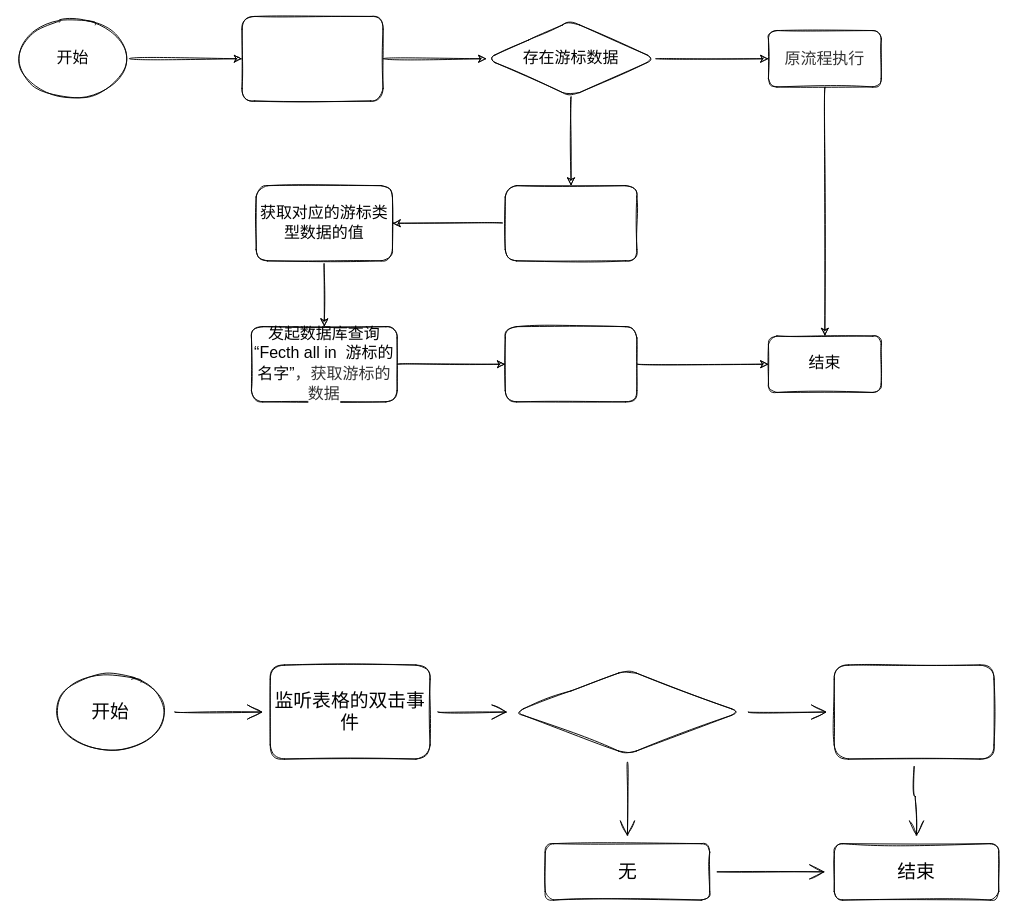
Image size: 1015x917. Some labels were removed from this diagram. Here are the shapes that lost their labels. From the top down, the centre of each, then its label:
At (312,58): "遍历ResultSet的元数据".
At (570,223): "记录游标类型数据的行号".
At (570,364): "替换ResultSet的原本的值为新获取的游标数据值".
At (627,711): "点击列为值且为游标数据".
At (913,711): "创建弹窗并展示数据".
